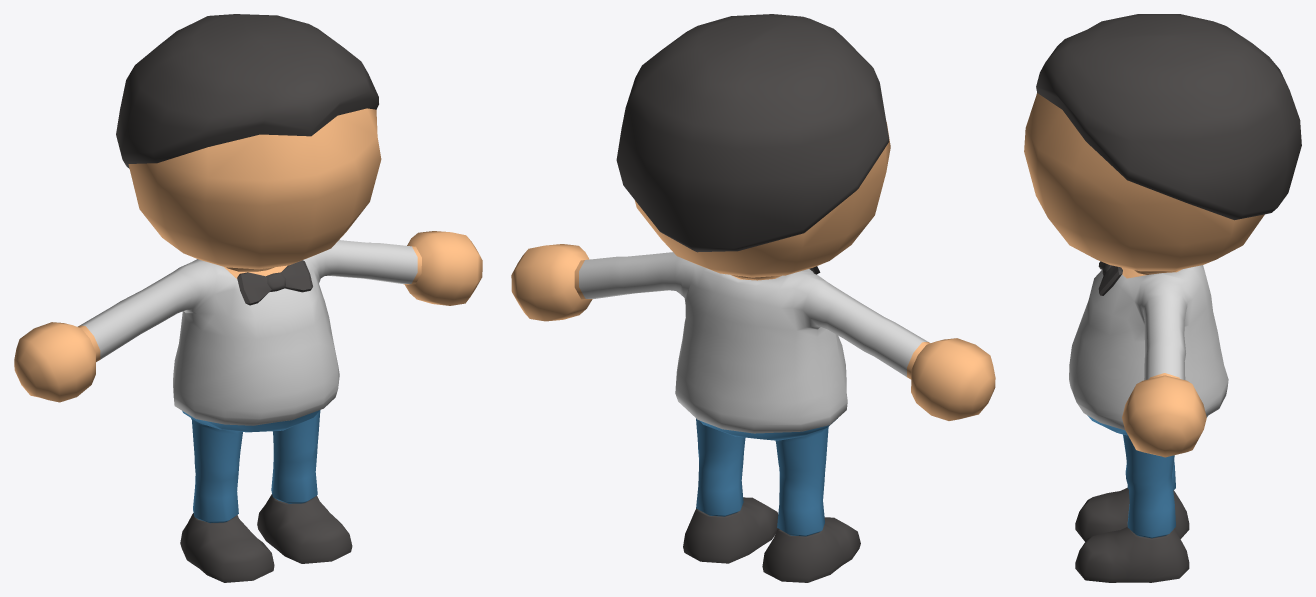
Rendered from assistant .fbx.
3 views of the same model, side by side, from view 1: azimuth 30°, elevation 25°; view 2: azimuth 150°, elevation 25°; view 3: azimuth 270°, elevation 25° (orthographic). The views are drawn at different scales.
Parts seen in each view (by area): view 1: boy_2, Tie; view 2: boy_2; view 3: boy_2, Tie.
Part boxes in pixels (<box>): boy_2: <box>14,14,482,582</box>; Tie: <box>237,260,312,305</box>; boy_2: <box>511,14,995,582</box>; boy_2: <box>1024,14,1301,582</box>; Tie: <box>1098,261,1122,295</box>.
Size of the model in its own units: 7.35 by 7.77 by 3.81.
